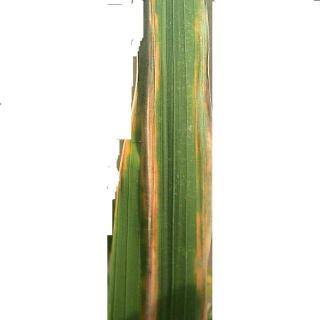Hawar-Daun: (116, 1, 165, 320), (188, 8, 224, 320)
